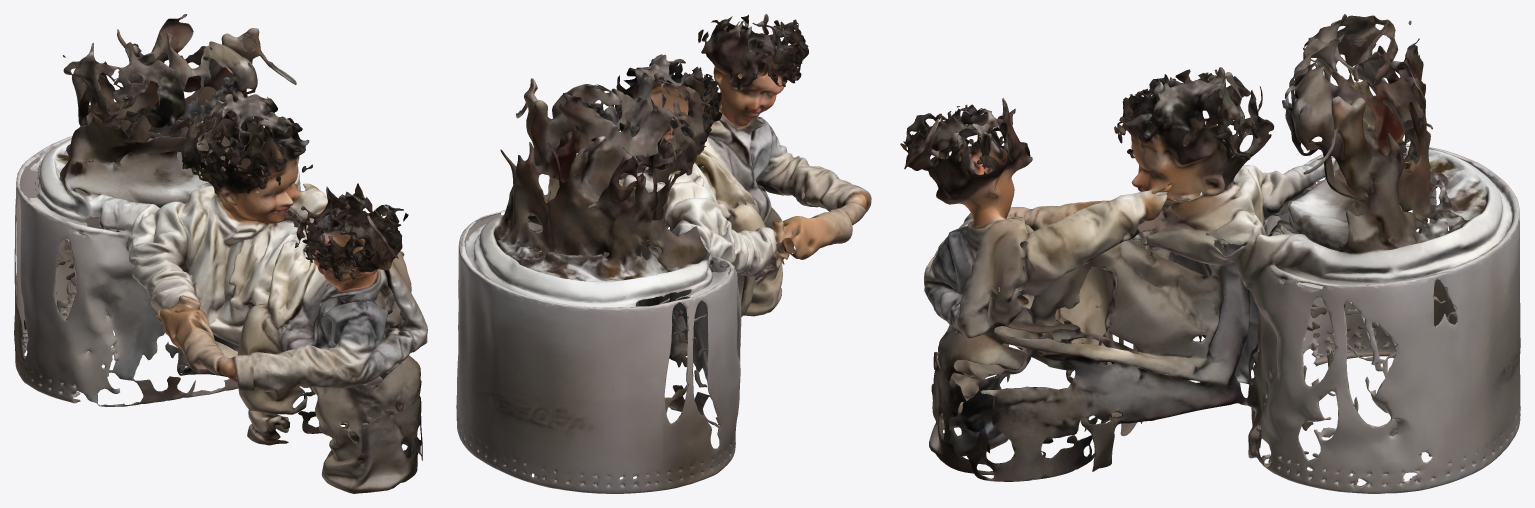
Rendered from solostove.glb.
3 views of the same model, side by side, from view 1: azimuth 30°, elevation 25°; view 2: azimuth 150°, elevation 25°; view 3: azimuth 270°, elevation 25° (orthographic). The views are drawn at different scales.
Parts seen in each view (by area): view 1: geometry_0; view 2: geometry_0; view 3: geometry_0.
Part boxes in pixels (left/top/right/bottom): geometry_0: left=14, top=14, right=427, bottom=493; geometry_0: left=456, top=14, right=871, bottom=493; geometry_0: left=900, top=14, right=1520, bottom=493.
Size of the model in its own units: 0.4505 by 0.574 by 0.8281.
Materials: 1 (1 with a texture image).
